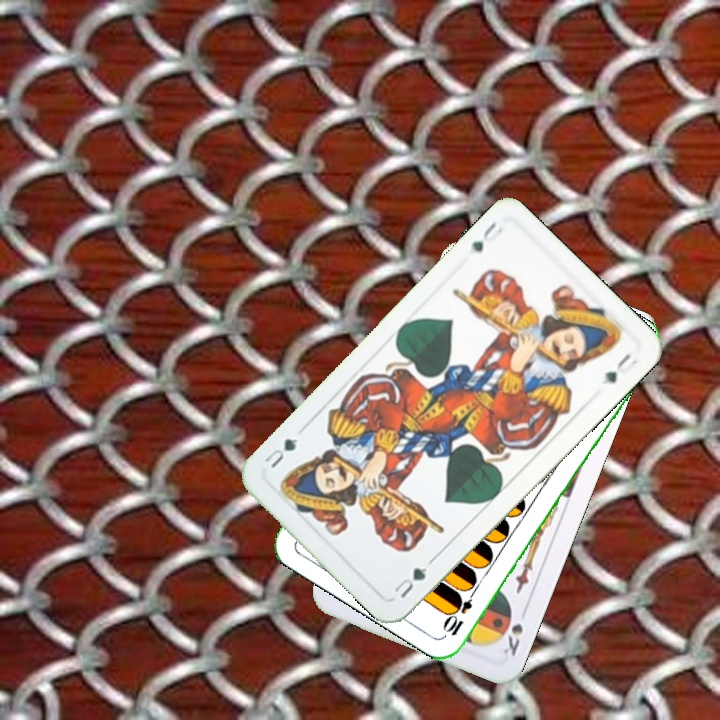E10: (441, 583, 480, 639)
GU: (390, 555, 436, 601), (466, 218, 506, 255)
SK: (498, 619, 526, 659)
